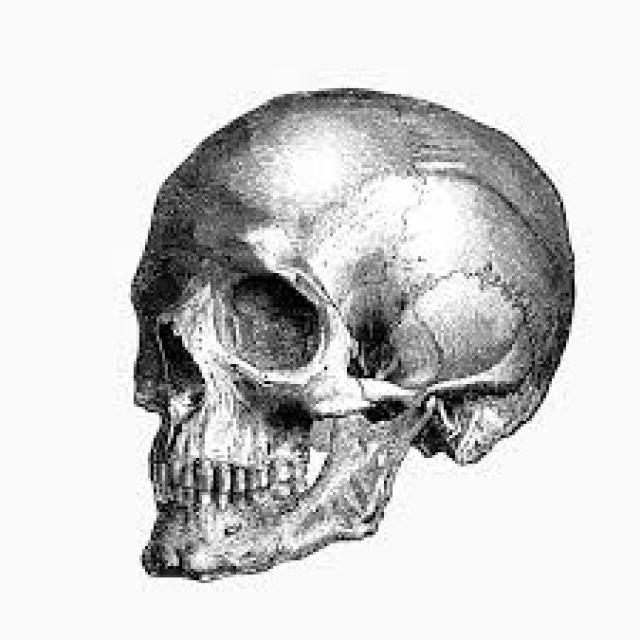skull: (116, 77, 591, 582)
